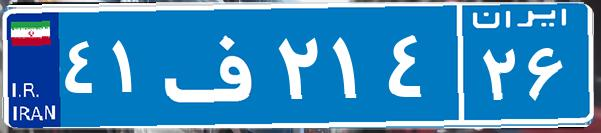1: (330, 28, 385, 110), (110, 28, 158, 105)
2: (273, 28, 330, 110), (475, 38, 525, 113)
4: (385, 28, 445, 110), (57, 26, 110, 107)
6: (525, 38, 570, 115)
ف: (158, 15, 273, 115)
